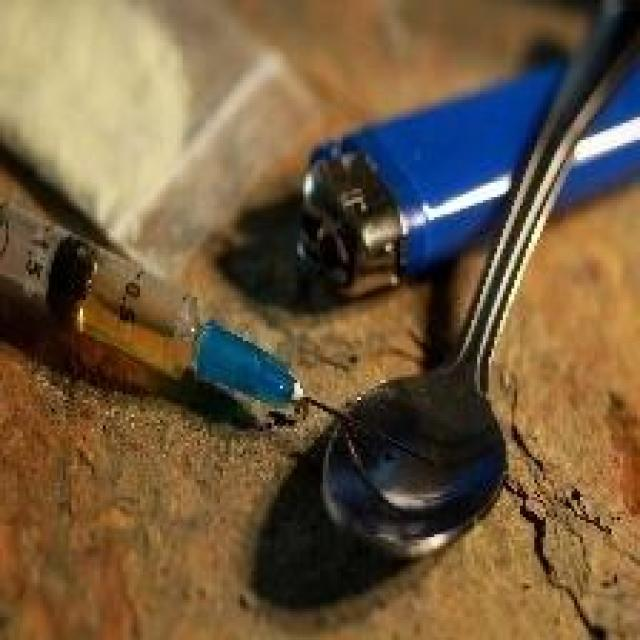syringe: (0, 168, 433, 472)
